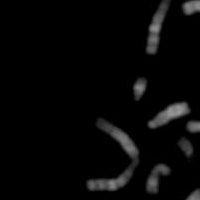chromosome: (86, 118, 139, 191), (146, 0, 200, 55), (148, 102, 191, 130), (145, 164, 172, 192), (187, 120, 200, 171), (167, 188, 200, 200), (133, 75, 147, 102), (176, 136, 193, 157), (184, 0, 200, 14), (195, 195, 200, 200)
